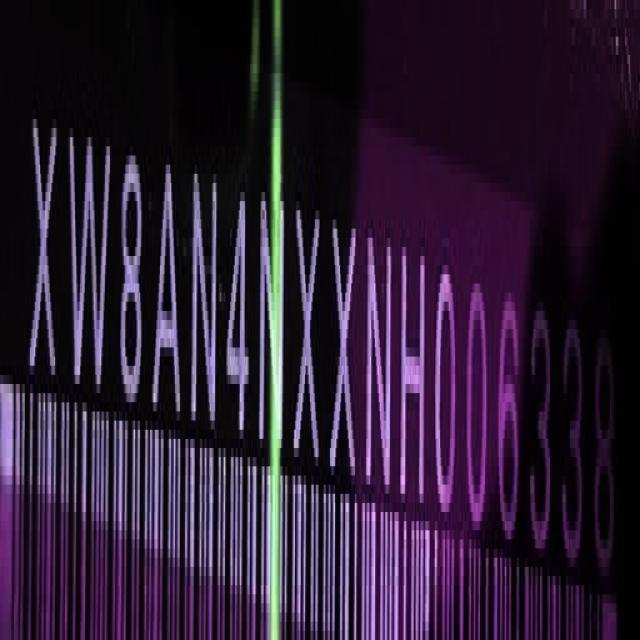0: (433, 253, 458, 520), (463, 268, 488, 532)
3: (529, 299, 554, 560), (560, 310, 584, 574)
4: (226, 175, 251, 448)
6: (498, 284, 524, 546)
8: (594, 325, 621, 586), (120, 142, 144, 416)
A: (151, 154, 181, 432)
H: (401, 240, 428, 513)
N: (192, 159, 222, 444), (363, 203, 390, 492), (260, 180, 286, 458)
W: (68, 124, 114, 405)
X: (29, 104, 62, 394), (328, 200, 358, 489), (296, 187, 322, 476)
